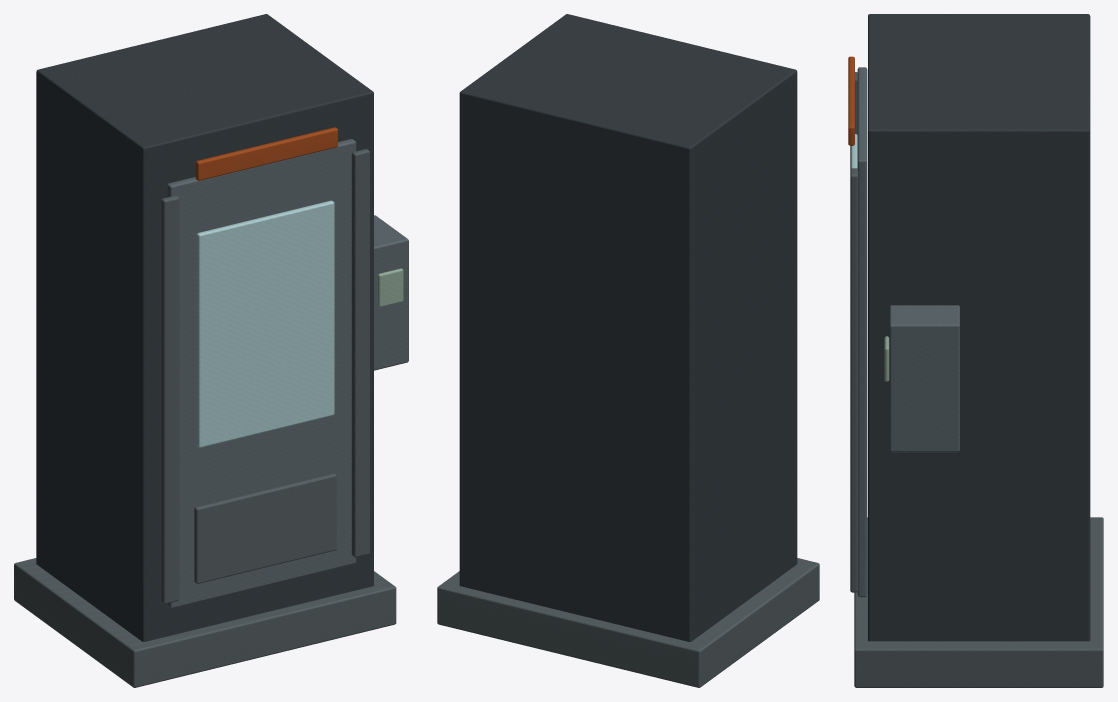
The model's file is CryoPod.fbx.
3 views of the same model, side by side, from view 1: azimuth 30°, elevation 25°; view 2: azimuth 150°, elevation 25°; view 3: azimuth 270°, elevation 25° (orthographic). The views are drawn at different scales.
Visible parts, largest first — view 1: CryoPod_Mesh; view 2: CryoPod_Mesh; view 3: CryoPod_Mesh.
Part boxes in pixels (x1,y1,x2,y2): CryoPod_Mesh: [14, 14, 408, 687]; CryoPod_Mesh: [437, 14, 819, 687]; CryoPod_Mesh: [848, 14, 1103, 687].
Size of the model in its own units: 129 by 224 by 94.25.
